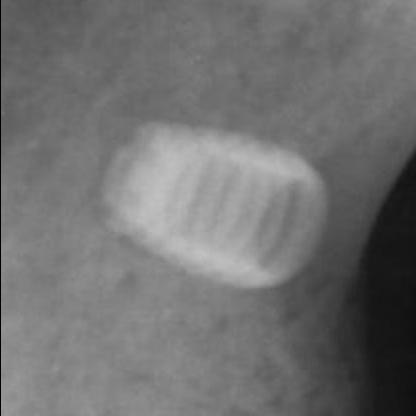Bicon: (98, 105, 326, 292)
